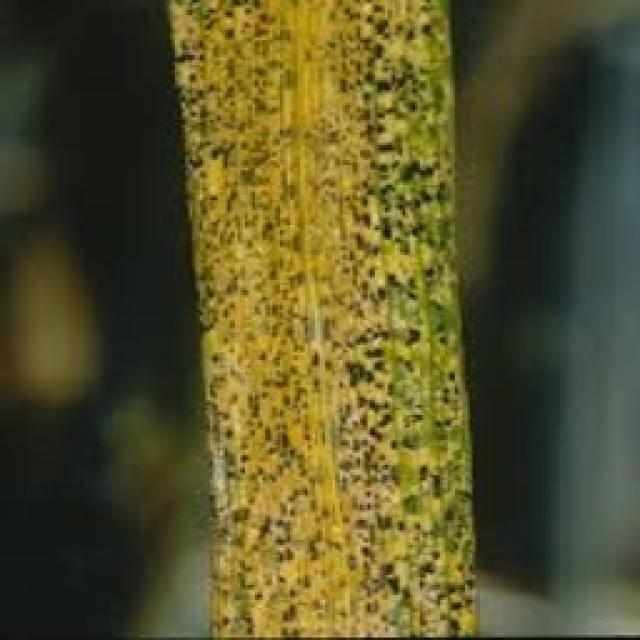Brown Rust: (155, 0, 480, 635)
